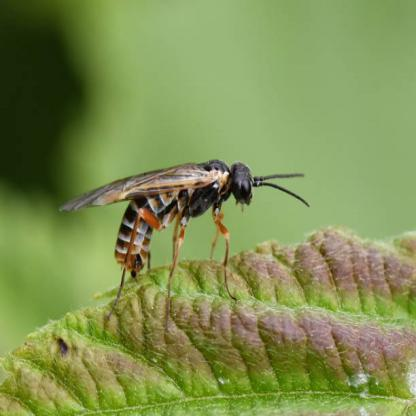sawfly: (55, 153, 313, 314)
